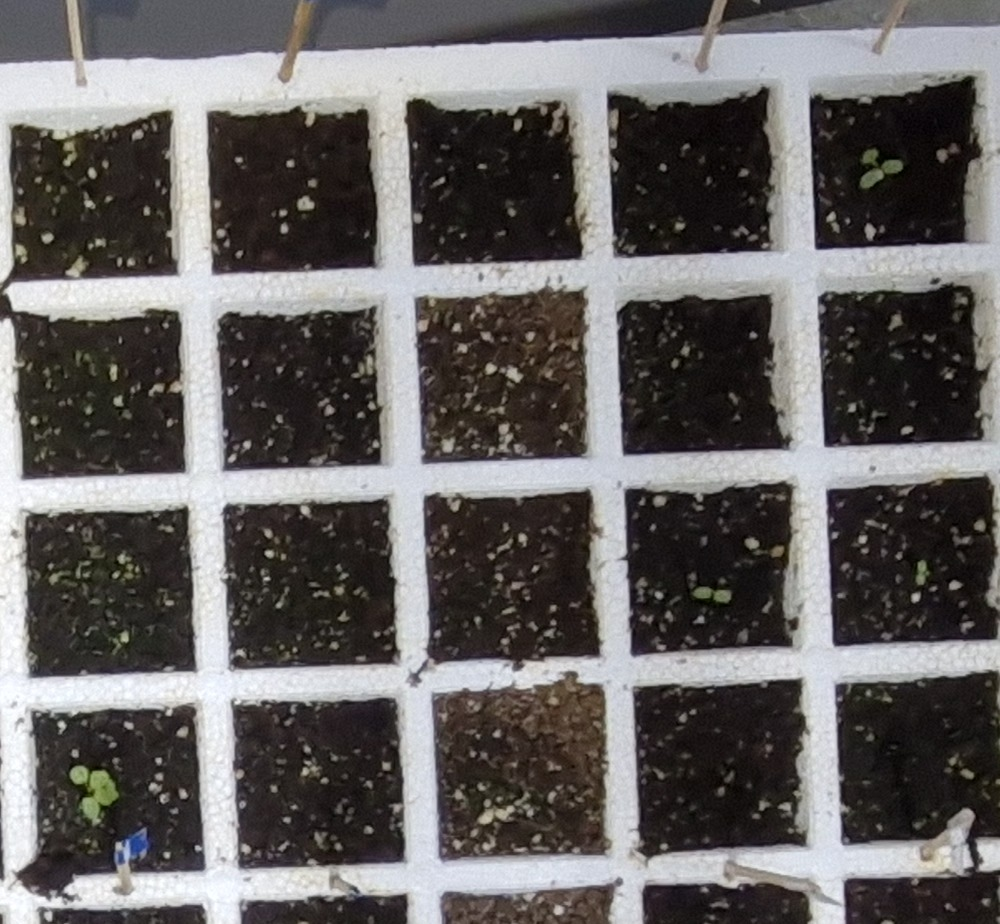Folha: (92, 777, 120, 804), (860, 169, 884, 187), (80, 797, 99, 819), (91, 771, 108, 790), (71, 766, 88, 784), (883, 159, 904, 172), (863, 148, 879, 163)
Germinacao: (70, 766, 124, 818), (860, 150, 904, 189)
